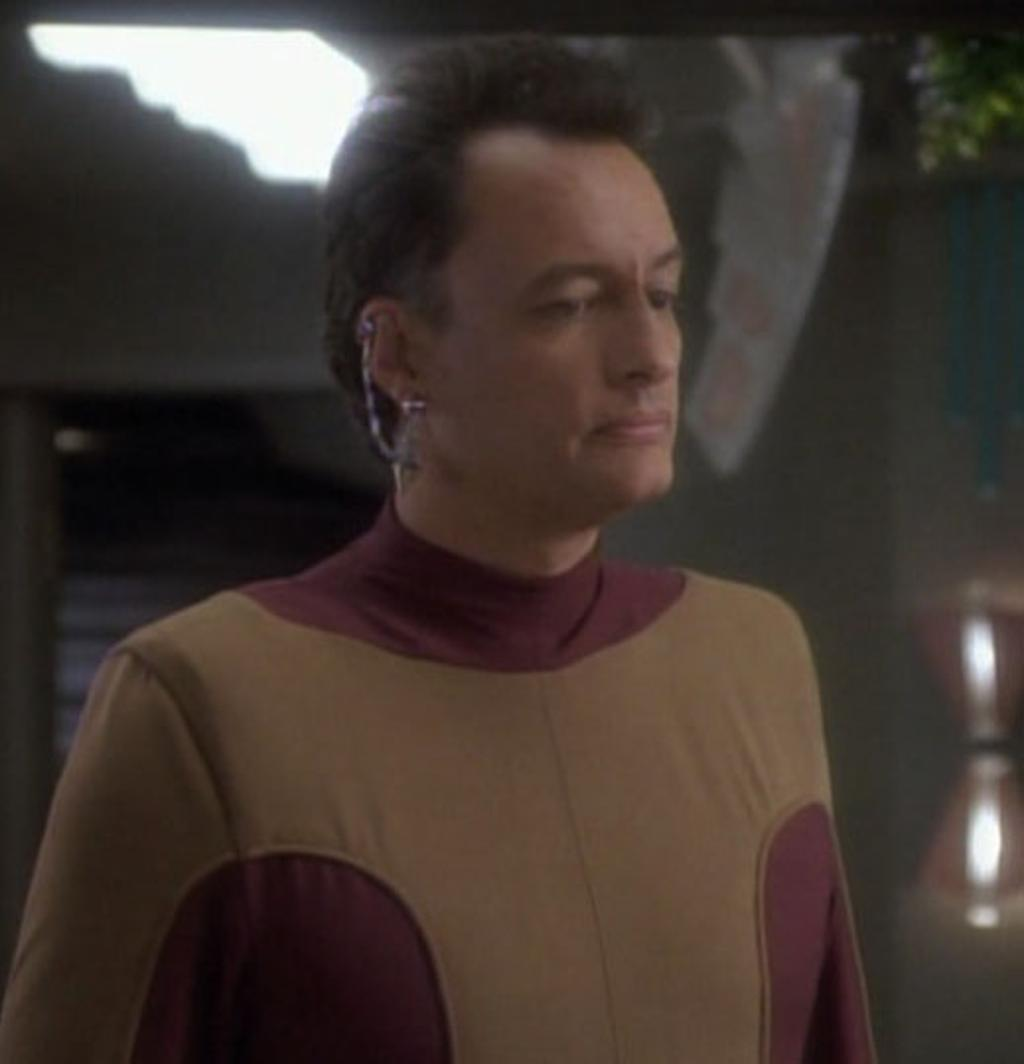face: (405, 123, 683, 503)
